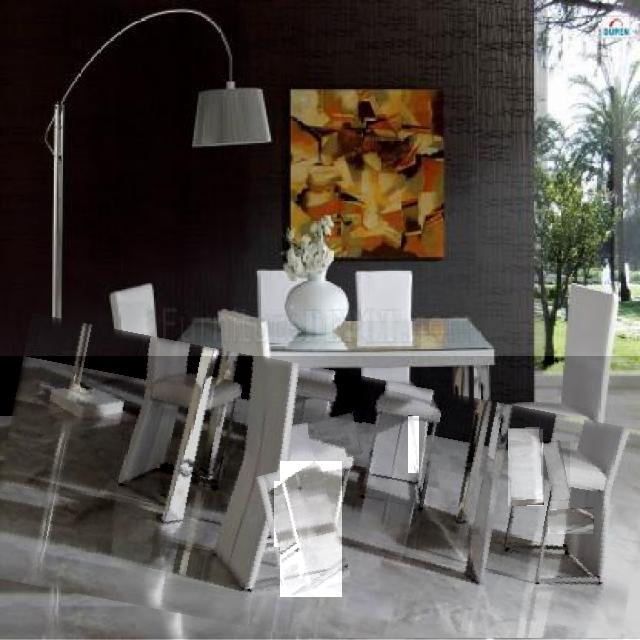floor: (0, 357, 640, 639), (281, 461, 342, 597), (509, 430, 543, 506), (308, 412, 362, 458), (545, 441, 570, 501), (275, 481, 293, 547), (548, 509, 593, 534), (408, 417, 419, 473)
